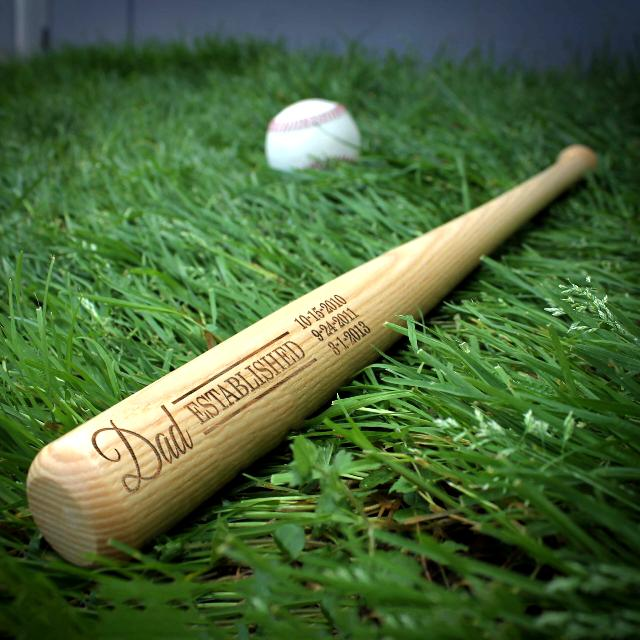baseball bat: (30, 139, 600, 579)
